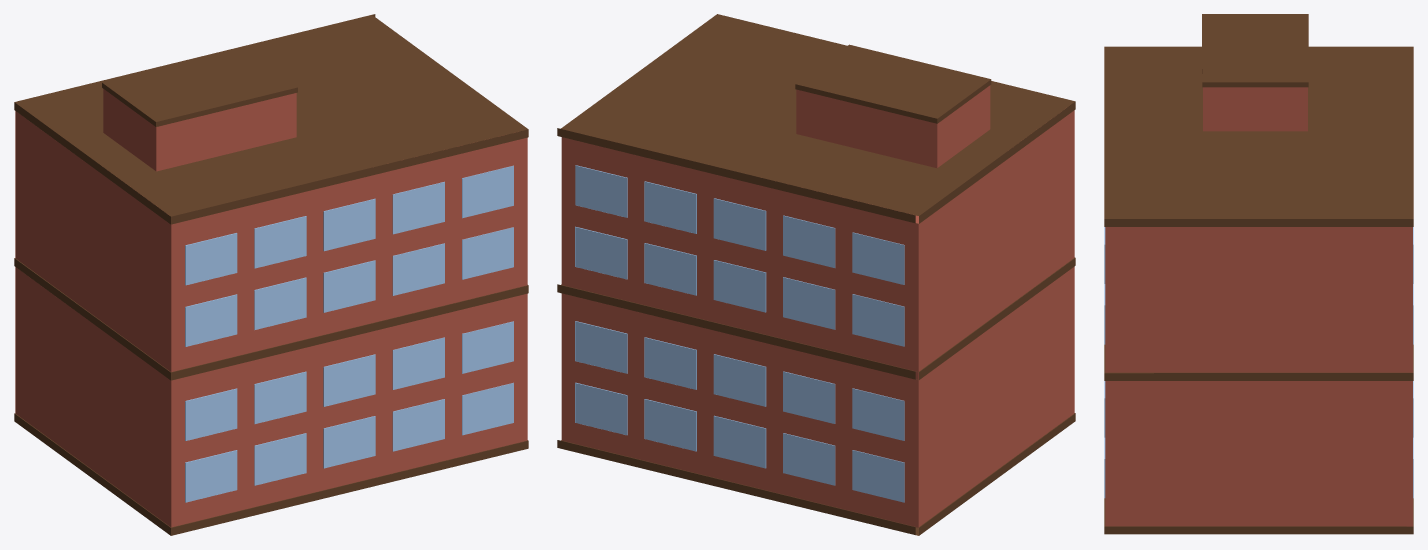
The model's file is City_house.fbx.
3 views of the same model, side by side, from view 1: azimuth 30°, elevation 25°; view 2: azimuth 150°, elevation 25°; view 3: azimuth 270°, elevation 25° (orthographic).
Parts seen in each view (by area): view 1: City_house; view 2: City_house; view 3: City_house.
Part boxes in pixels (x1=…): City_house: x1=14, y1=14, x2=528, y2=535; City_house: x1=557, y1=14, x2=1075, y2=535; City_house: x1=1104, y1=14, x2=1413, y2=534.
Bounding box in the file's own units: 4685 × 3522 × 4578.
